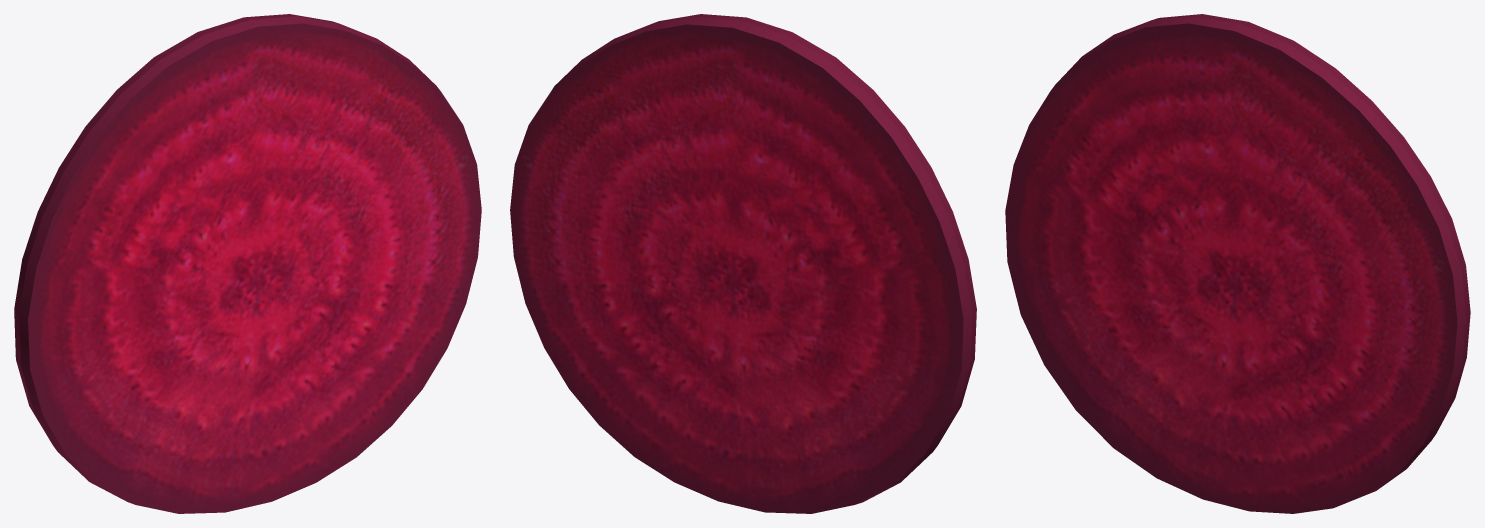
File: BeetRootSlice_1.fbx
3 renders of one model, left to right at view 1: azimuth 30°, elevation 25°; view 2: azimuth 150°, elevation 25°; view 3: azimuth 330°, elevation 25°, orthographic.
Parts seen in each view (by area): view 1: BeetRootSlice_1; view 2: BeetRootSlice_1; view 3: BeetRootSlice_1.
Part boxes in pixels (box(x1,y1,x2,y2)): BeetRootSlice_1: box(14, 14, 481, 513); BeetRootSlice_1: box(510, 14, 976, 513); BeetRootSlice_1: box(1005, 14, 1470, 513).
Size of the model in its own units: 0.0509 by 0.0512 by 0.00273.
Materials: 1 (1 with a texture image).
